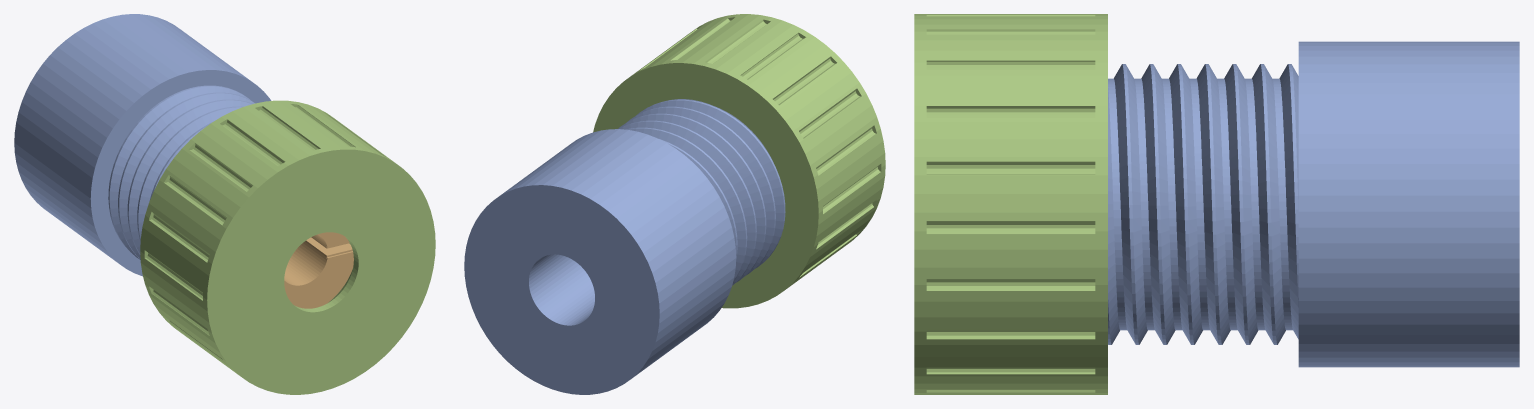
File: collet_chuck_demo.glb
3 views of the same model, side by side, from view 1: azimuth 30°, elevation 25°; view 2: azimuth 150°, elevation 25°; view 3: azimuth 270°, elevation 25° (orthographic). The views are drawn at different scales.
Parts seen in each view (by area): view 1: taper_nut, spindle_nose, split_collet; view 2: spindle_nose, taper_nut; view 3: spindle_nose, taper_nut.
Part boxes in pixels (x1,y1,x2,y2): taper_nut: (140,100,435,394); spindle_nose: (14,14,271,276); split_collet: (284,232,353,308); spindle_nose: (464,99,785,394); taper_nut: (593,14,885,308); spindle_nose: (1108,41,1519,367); taper_nut: (914,14,1107,394).
Bounding box in the file's own units: 27.6 × 27.6 × 43.8.
